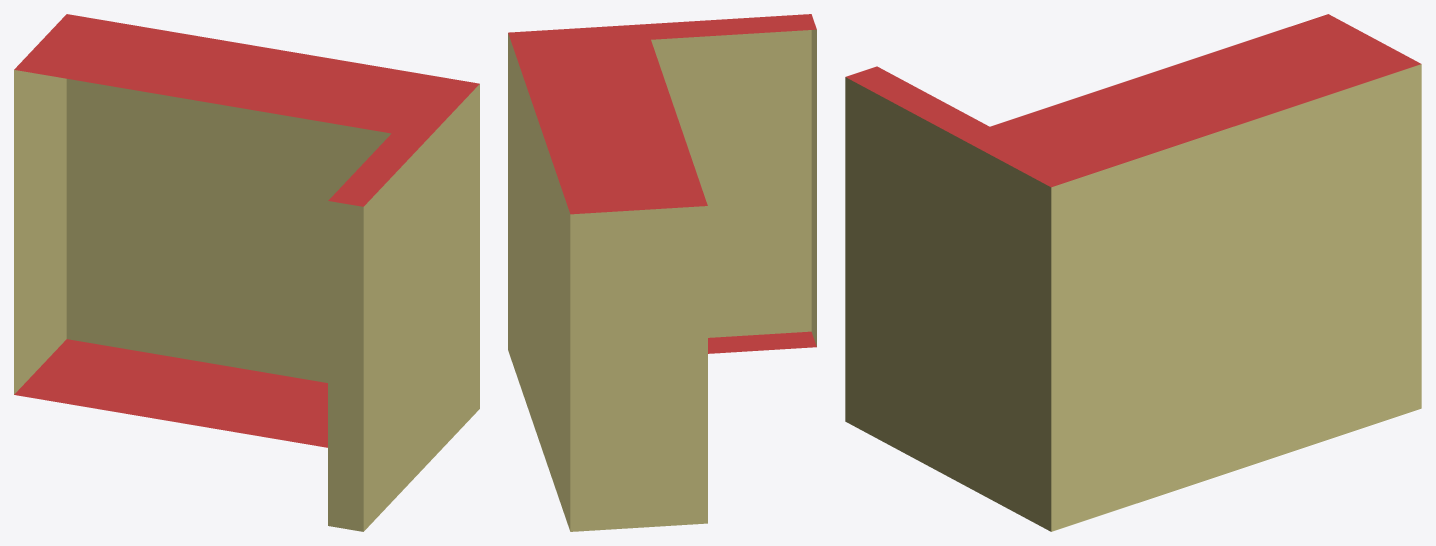
The picture shows the model from 3 angles, left to right: view 1: azimuth 30°, elevation 25°; view 2: azimuth 150°, elevation 25°; view 3: azimuth 270°, elevation 25°; orthographic projection. The views are drawn at different scales.
Bounding box in the file's own units: 7.59 × 10.66 × 7.03.
